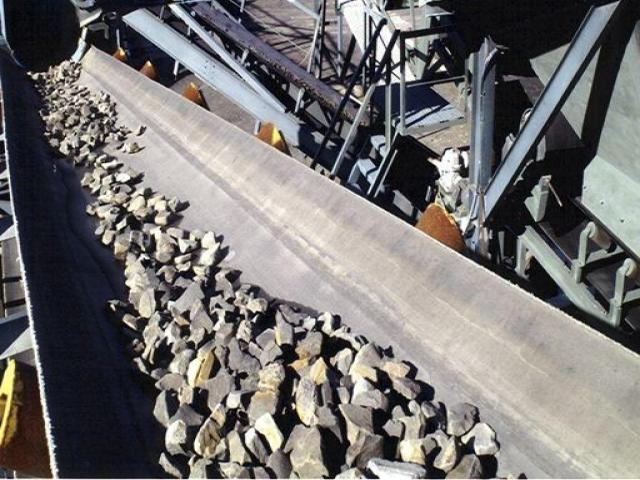conveyor: (2, 51, 639, 480)
